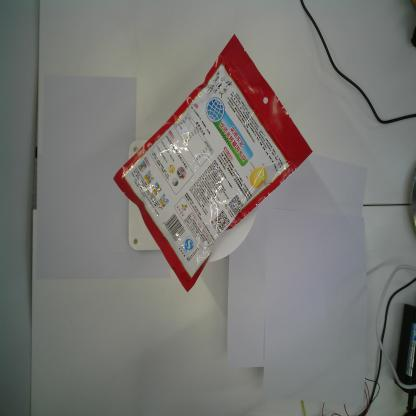Instant Drink: (112, 30, 315, 298)
